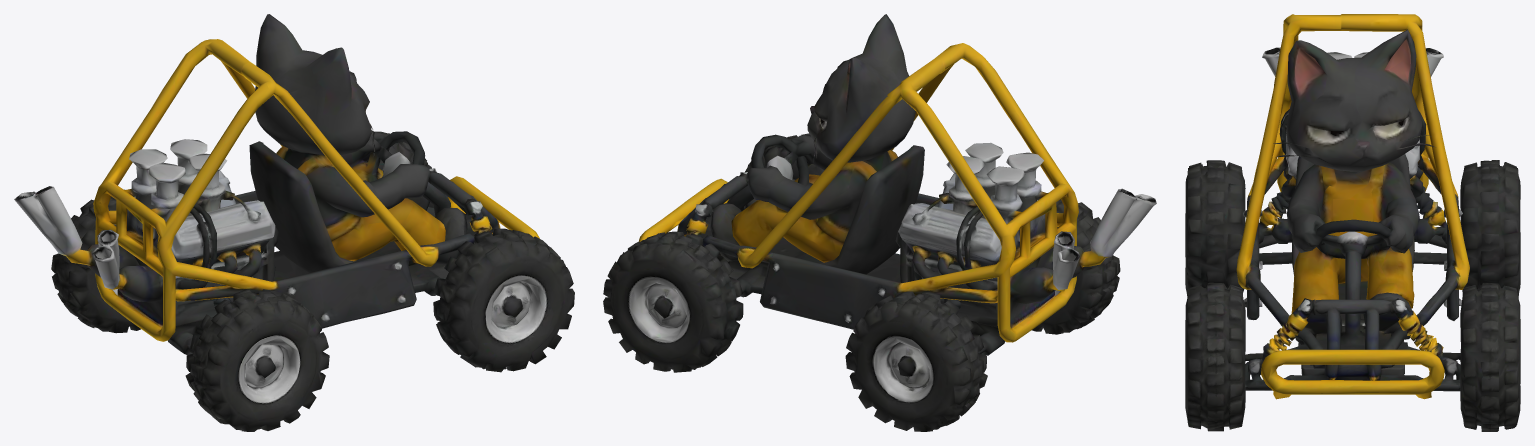
File: momo.glb
The picture shows the model from 3 angles, left to right: view 1: azimuth 30°, elevation 25°; view 2: azimuth 150°, elevation 25°; view 3: azimuth 270°, elevation 25°; orthographic projection. The views are drawn at different scales.
Parts seen in each view (by area): view 1: tripo_node_f16cc1f8-33d7-4ac2-b8ec-bc8cdaea4bbe; view 2: tripo_node_f16cc1f8-33d7-4ac2-b8ec-bc8cdaea4bbe; view 3: tripo_node_f16cc1f8-33d7-4ac2-b8ec-bc8cdaea4bbe.
Boxes of the visible parts, x1,y1,x2,y2 form: tripo_node_f16cc1f8-33d7-4ac2-b8ec-bc8cdaea4bbe: (14,14,574,431); tripo_node_f16cc1f8-33d7-4ac2-b8ec-bc8cdaea4bbe: (603,14,1156,431); tripo_node_f16cc1f8-33d7-4ac2-b8ec-bc8cdaea4bbe: (1185,14,1520,431).
Bounding box in the file's own units: 1 × 0.6795 × 0.6379.
Materials: 1 (1 with a texture image).
